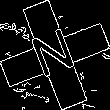N_S: (28, 25, 82, 85)
